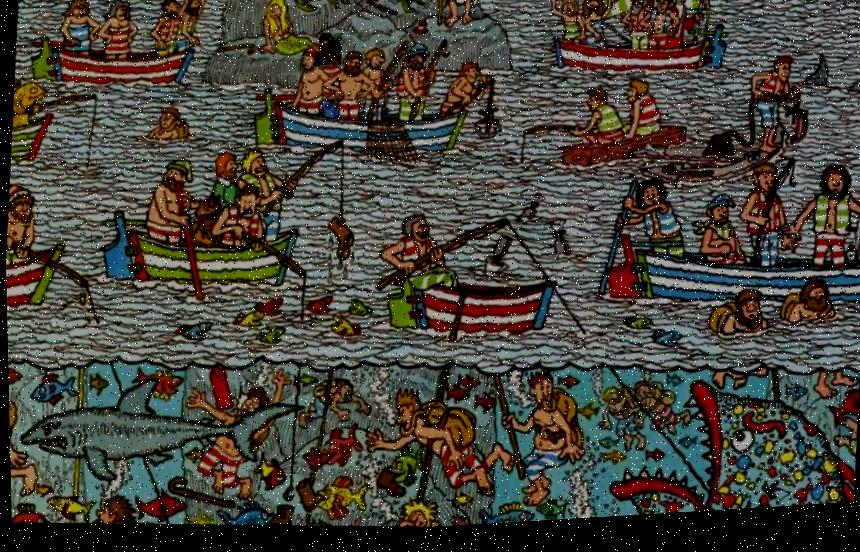waldo: (317, 36, 343, 71)
